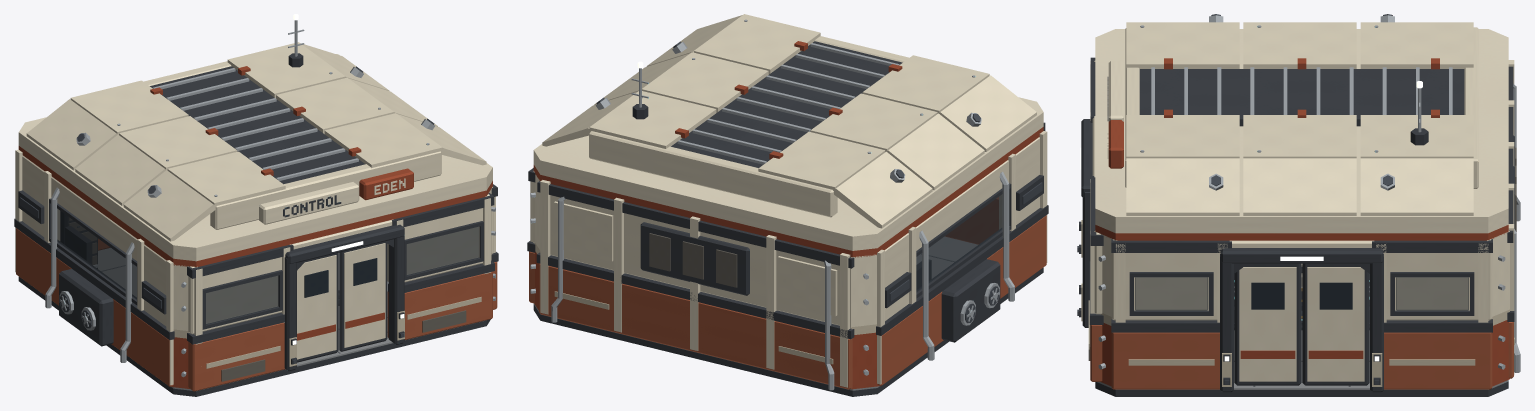
Rendered from control-room-v002.glb.
3 renders of one model, left to right at view 1: azimuth 30°, elevation 25°; view 2: azimuth 150°, elevation 25°; view 3: azimuth 270°, elevation 25°, orthographic. The views are drawn at different scales.
Visible parts, largest first — view 1: TET_Control, ARQ_Control_Parede_S, ARQ_Control_Parede_O, VID_Control, D_Control_S_B, ARQ_Control_Portal_S, PROP_Control_Telhado, D_Control_S_A, PIS_Control, ARQ_Control_Cantos, PROP_Control_Telas, PROP_Control_Rack (+1 smaller); view 2: TET_Control, ARQ_Control_Parede_N, ARQ_Control_Parede_O, PIS_Control, ARQ_Control_Cantos, VID_Control, ARQ_Control_Parede_S, PROP_Control_Telhado, ARQ_Control_Parede_L; view 3: TET_Control, ARQ_Control_Parede_L, D_Control_L_B, D_Control_L_A, ARQ_Control_Portal_L, VID_Control, ARQ_Control_Cantos, PIS_Control, ARQ_Control_Parede_S, PROP_Control_Telhado, ARQ_Control_Parede_N, ARQ_Control_Portal_S.
Part boxes in pixels (x1,y1,x2,y2): TET_Control: (18,42,492,266); ARQ_Control_Parede_S: (187,193,494,391); ARQ_Control_Parede_O: (14,149,174,386); VID_Control: (57,209,478,324); D_Control_S_B: (339,241,387,351); ARQ_Control_Portal_S: (284,224,404,371); PROP_Control_Telhado: (76,14,434,224); D_Control_S_A: (297,252,338,362); PIS_Control: (18,248,490,396); ARQ_Control_Cantos: (172,188,495,388); PROP_Control_Telas: (65,226,91,264); PROP_Control_Rack: (60,211,97,268); TET_Control: (533,14,1043,257); ARQ_Control_Parede_N: (536,180,854,390); ARQ_Control_Parede_O: (876,131,1048,386); PIS_Control: (533,237,1043,396); ARQ_Control_Cantos: (530,170,878,389); VID_Control: (916,195,1002,292); ARQ_Control_Parede_S: (945,122,1045,244); PROP_Control_Telhado: (595,41,981,182); ARQ_Control_Parede_L: (527,168,535,303); TET_Control: (1095,22,1508,240); ARQ_Control_Parede_L: (1111,239,1492,389); D_Control_L_B: (1302,263,1369,385); D_Control_L_A: (1234,263,1301,385); ARQ_Control_Portal_L: (1220,248,1383,392); VID_Control: (1135,277,1468,310); ARQ_Control_Cantos: (1094,61,1509,386); PIS_Control: (1095,330,1508,396); ARQ_Control_Parede_S: (1088,57,1103,381); PROP_Control_Telhado: (1107,14,1428,190); ARQ_Control_Parede_N: (1507,60,1520,378); ARQ_Control_Portal_S: (1077,119,1092,327).
Bounding box in the file's own units: 7.75 × 4.74 × 6.97.
2 materials, 2 textured.
